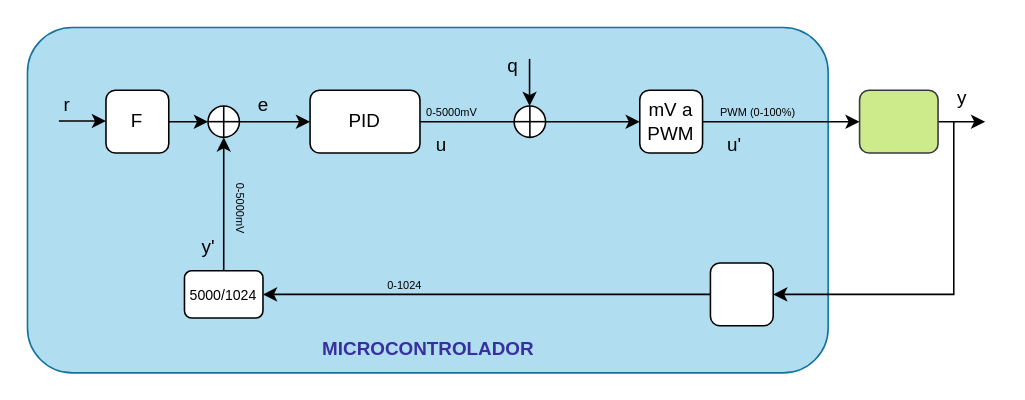
Some shapes in this 1025 by 400 pixel diagram are drawn without their labels. Each missing label, with the centre of its shape:
"ADC" goes at pixel 741 293.
"Planta" goes at pixel 898 121.
